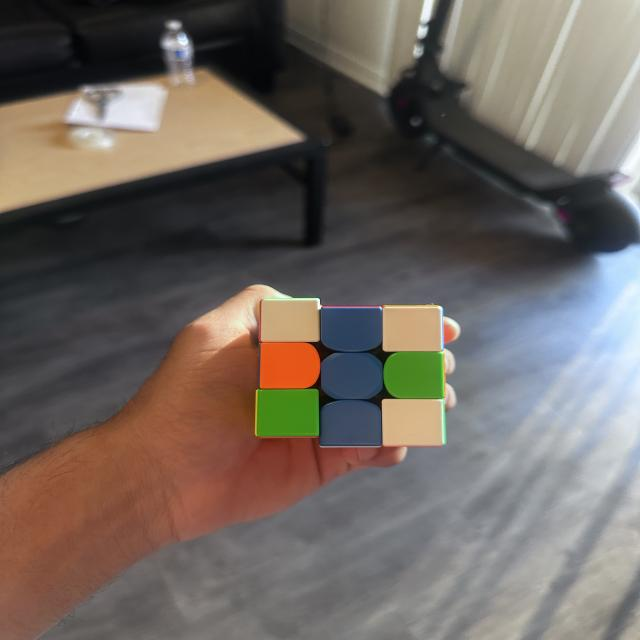sticker: (318, 352, 386, 402), (255, 388, 321, 439), (257, 296, 324, 345), (380, 398, 445, 448), (318, 399, 384, 448), (381, 304, 445, 354), (319, 305, 384, 354), (258, 341, 322, 390), (383, 351, 445, 400)
